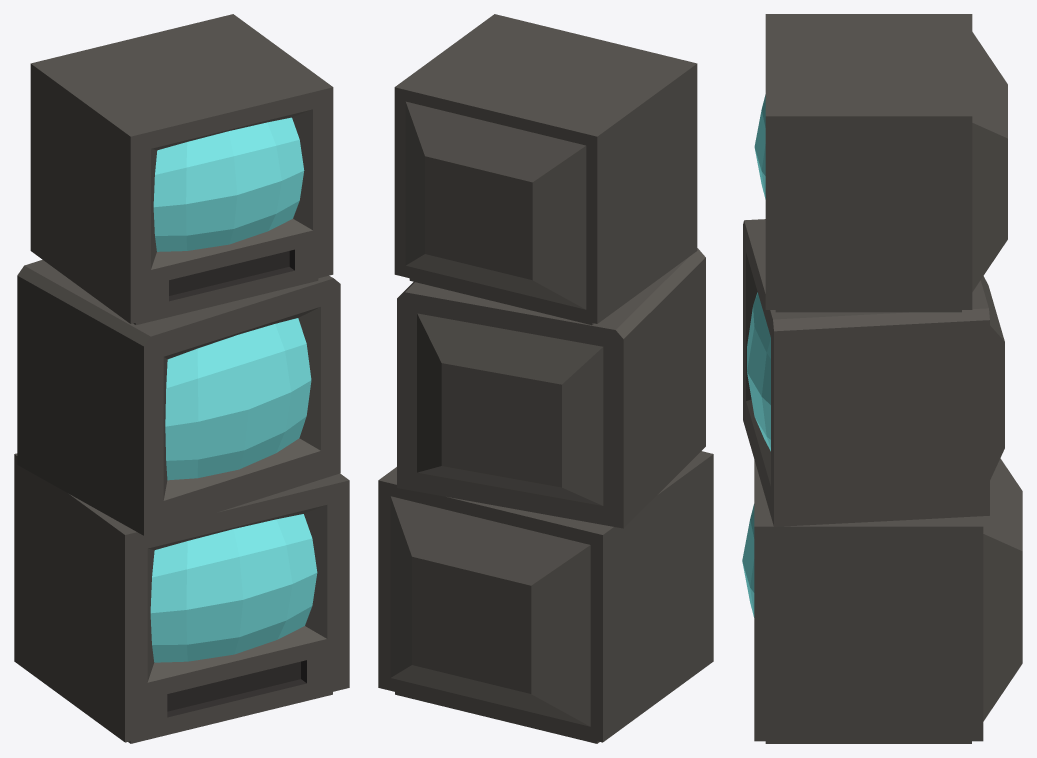
The model's file is TVTower3.fbx.
The picture shows the model from 3 angles, left to right: view 1: azimuth 30°, elevation 25°; view 2: azimuth 150°, elevation 25°; view 3: azimuth 270°, elevation 25°; orthographic projection. The views are drawn at different scales.
Parts seen in each view (by area): view 1: TVTower3; view 2: TVTower3; view 3: TVTower3.
Part boxes in pixels (box(x1,y1,x2,y2)): TVTower3: box(14, 14, 349, 743); TVTower3: box(378, 14, 713, 743); TVTower3: box(742, 14, 1022, 743).
Bounding box in the file's own units: 56.83 × 141 × 57.11.
